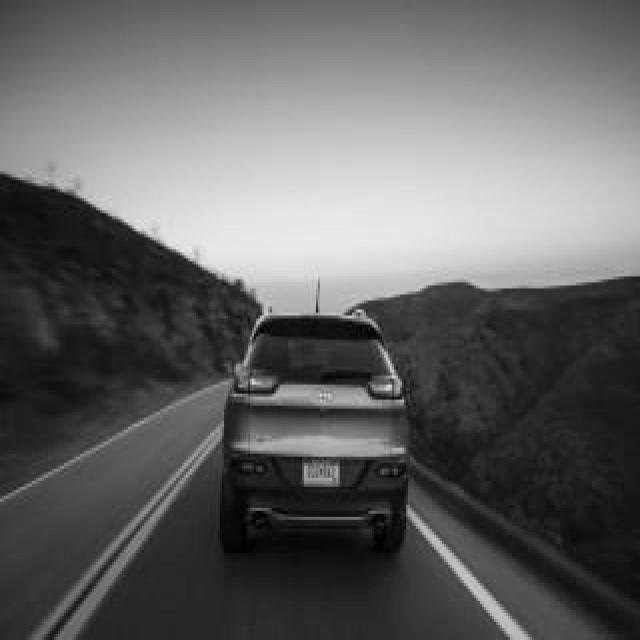Car: (222, 316, 409, 553)
